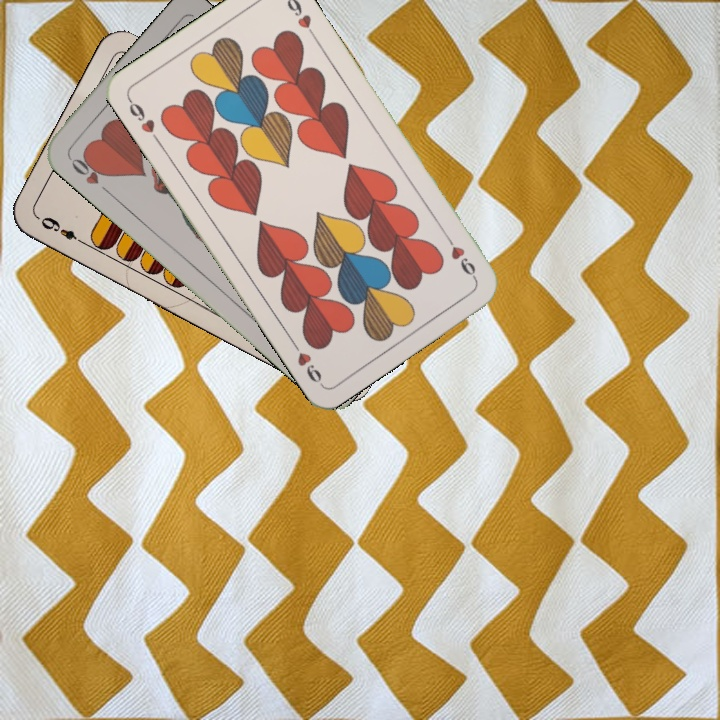E9: (36, 212, 88, 248)
H9: (123, 94, 163, 146), (441, 230, 479, 283)
HO: (65, 150, 114, 197)
